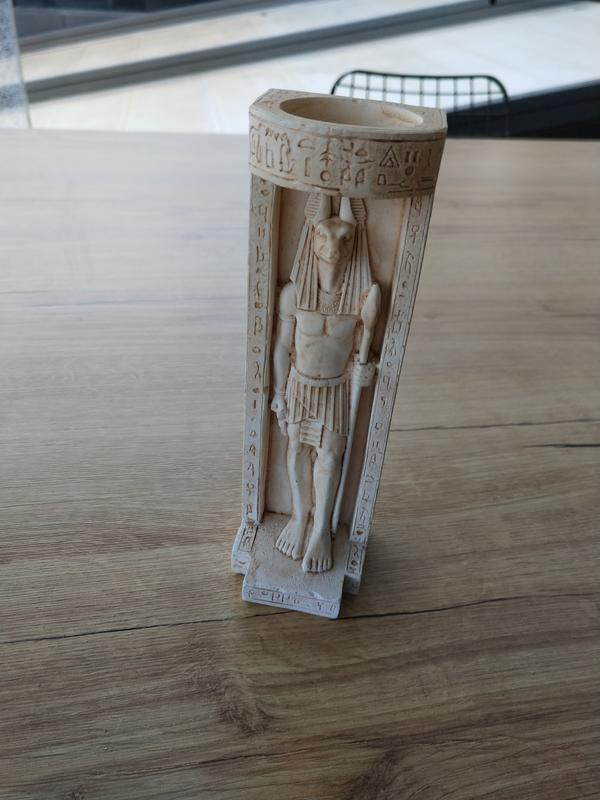heykel: (224, 86, 452, 629)
